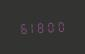eight: (38, 20, 47, 33)
one: (28, 20, 37, 34)
six: (18, 21, 27, 34)
zero: (48, 19, 57, 33), (58, 19, 67, 32)
